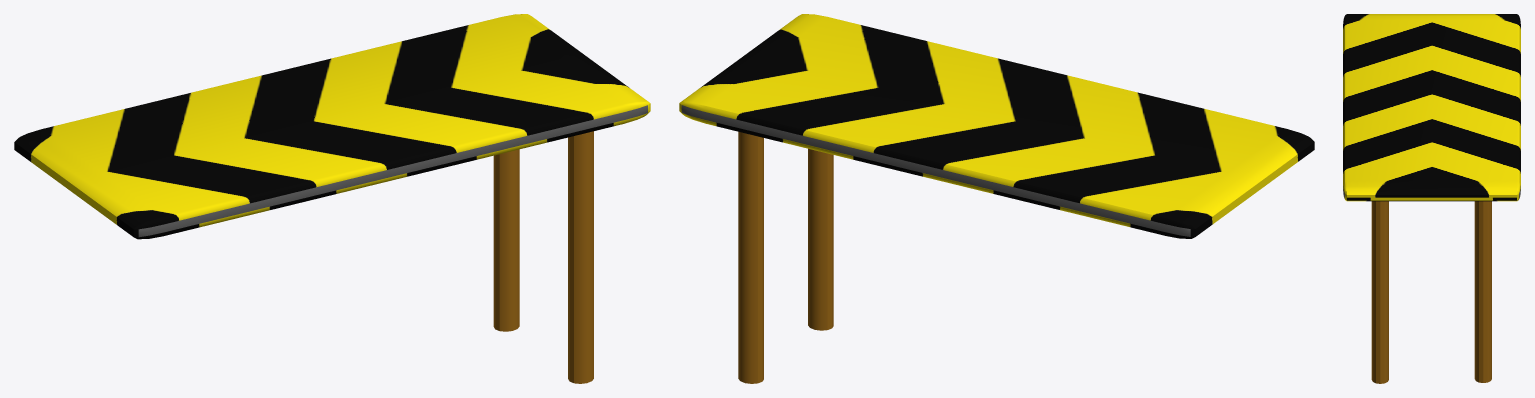
Rendered from raylksamasa3.fbx.
3 views of the same model, side by side, from view 1: azimuth 30°, elevation 25°; view 2: azimuth 150°, elevation 25°; view 3: azimuth 270°, elevation 25° (orthographic). The views are drawn at different scales.
Visible parts, largest first — view 1: Cylinder.039; view 2: Cylinder.039; view 3: Cylinder.039.
Part boxes in pixels (<box>): Cylinder.039: <box>14,14,650,383</box>; Cylinder.039: <box>679,14,1314,383</box>; Cylinder.039: <box>1343,14,1520,383</box>.
Bounding box in the file's own units: 67.03 × 35.6 × 27.95.
